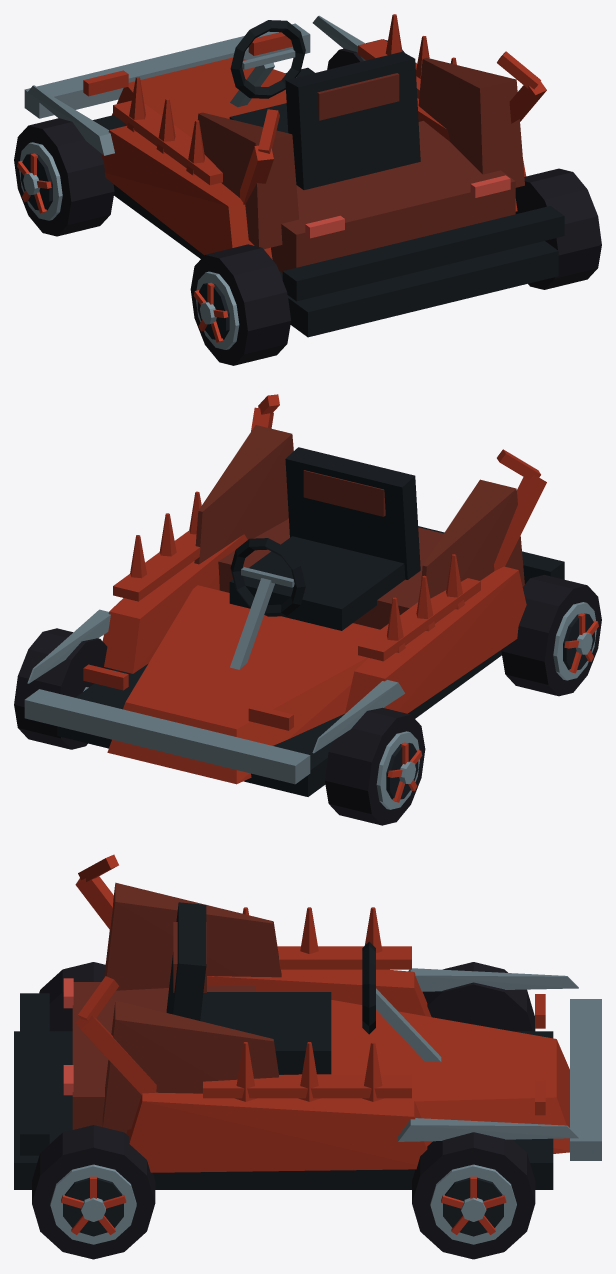
File: kart.glb
3 views of the same model, one above another, from view 1: azimuth 30°, elevation 25°; view 2: azimuth 150°, elevation 25°; view 3: azimuth 270°, elevation 25° (orthographic). The views are drawn at different scales.
Visible parts, largest first — view 1: chassis, wheel-rear-left, wheel-front-left, wheel-rear-right, wheel-front-right; view 2: chassis, wheel-front-left, wheel-rear-left, wheel-front-right; view 3: chassis, wheel-rear-right, wheel-front-right, wheel-front-left, wheel-rear-left.
Boxes of the visible parts, x1,y1,x2,y2 form: chassis: (24, 14, 564, 337); wheel-rear-left: (190, 244, 291, 365); wheel-front-left: (14, 118, 114, 236); wheel-rear-right: (515, 168, 601, 289); wheel-front-right: (327, 39, 404, 69); chassis: (24, 394, 564, 796); wheel-front-left: (324, 707, 425, 825); wheel-rear-left: (501, 575, 601, 696); wheel-front-right: (14, 628, 113, 749); chassis: (14, 854, 601, 1189); wheel-rear-right: (32, 1125, 155, 1259); wheel-front-right: (412, 1132, 535, 1259); wheel-front-left: (423, 962, 535, 1031); wheel-rear-left: (39, 962, 105, 1031).
Size of the model in its own units: 2.38 by 1.38 by 2.96.
